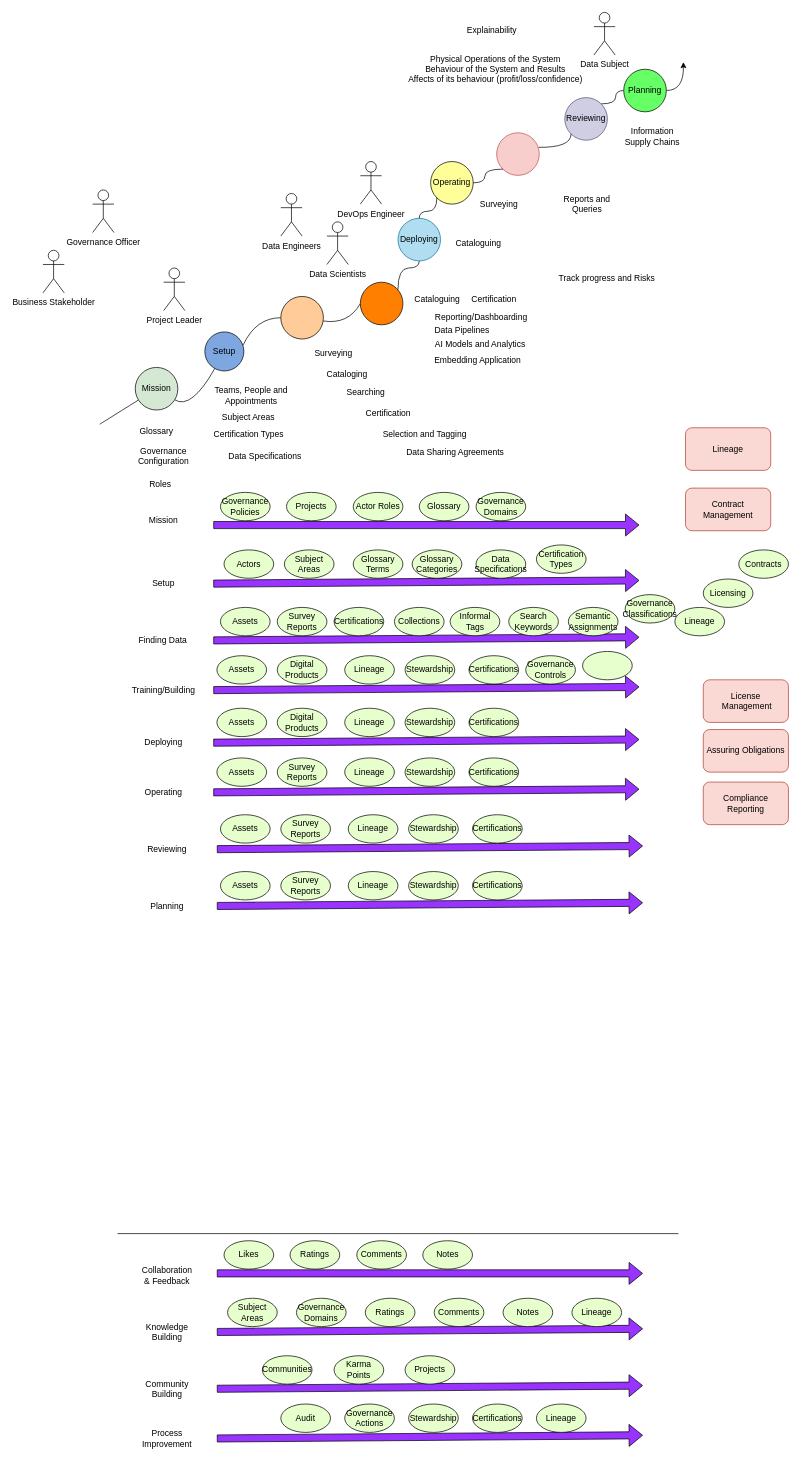
Image size: 801x1462. Some labels were removed from this diagram. Each missing label, with the centre of its shape:
"Context Events" goes at pixel 607 665.
"Researching Artifacts" goes at pixel 301 317.
"Teardown" goes at pixel 517 153.
"Training /Building" goes at pixel 381 303.
